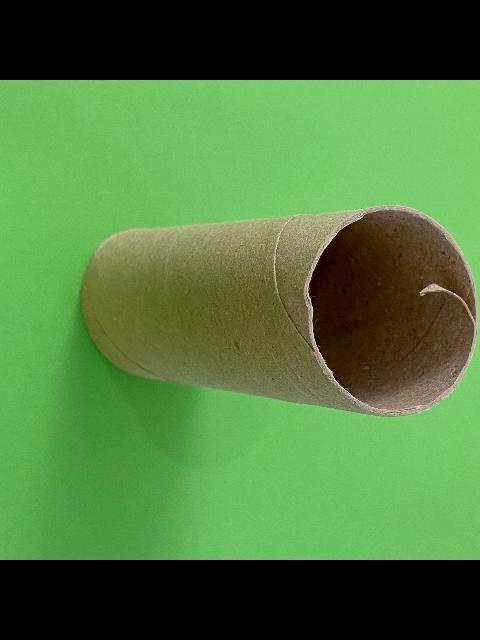tissueroll: (74, 202, 480, 418)
